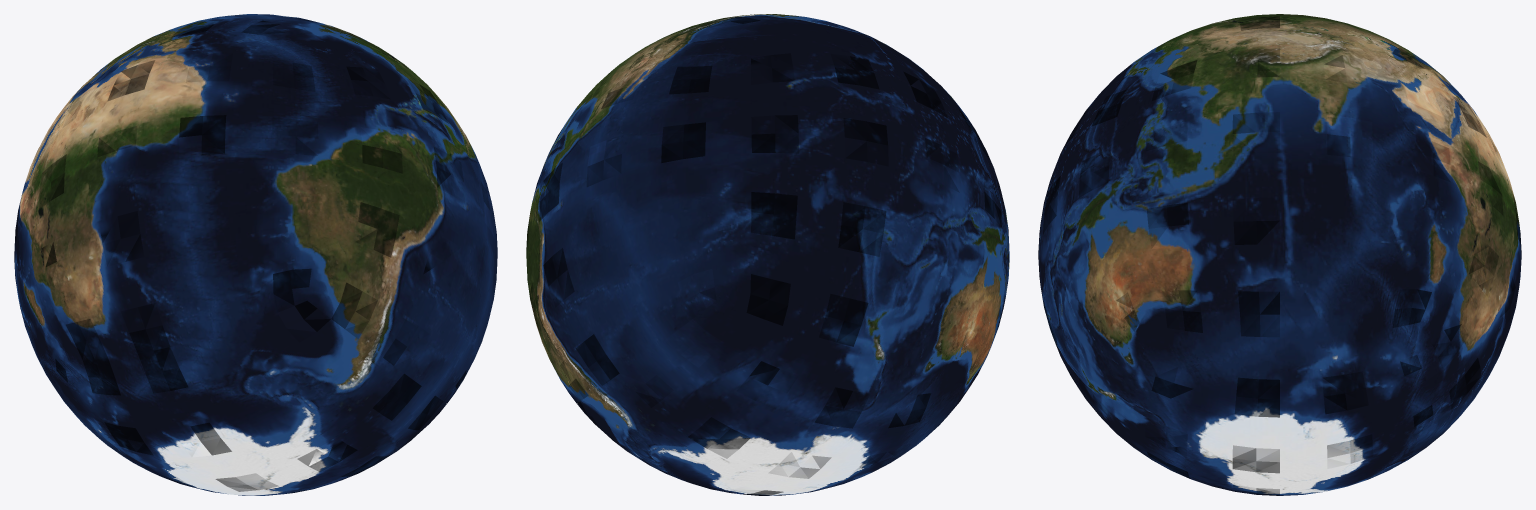
File: Earth_1_12756.gltf
The picture shows the model from 3 angles, left to right: view 1: azimuth 30°, elevation 25°; view 2: azimuth 150°, elevation 25°; view 3: azimuth 270°, elevation 25°; orthographic projection.
Parts seen in each view (by area): view 1: Cube_001; view 2: Cube_001; view 3: Cube_001.
Boxes of the visible parts, x1=… form: Cube_001: x1=14, y1=14, x2=497, y2=495; Cube_001: x1=526, y1=14, x2=1009, y2=495; Cube_001: x1=1038, y1=14, x2=1521, y2=495.
Bounding box in the file's own units: 1000 × 997 × 1000.
Materials: 1 (1 with a texture image).
